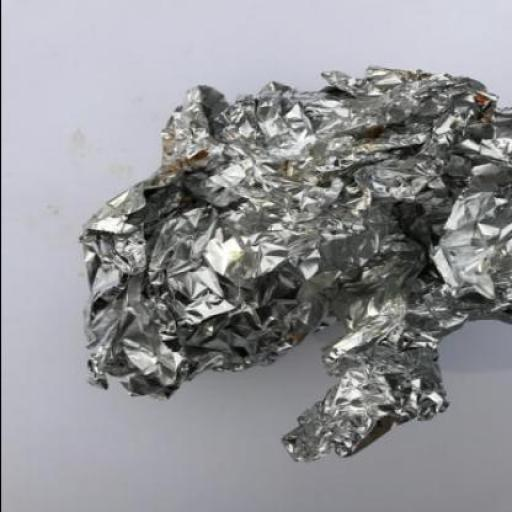metal: (75, 65, 511, 464)
